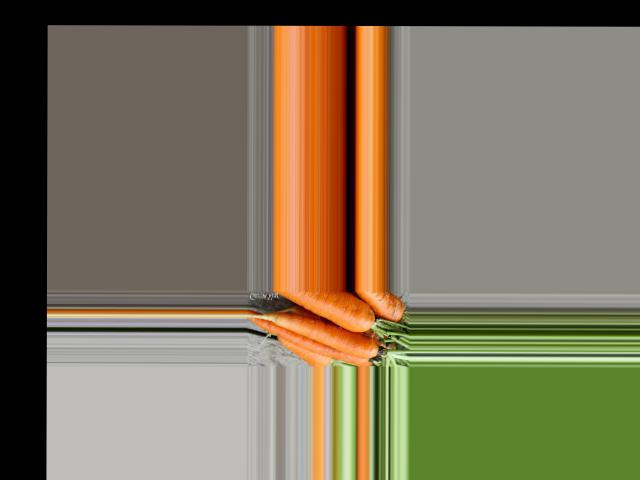carrot: (344, 290, 383, 321)
